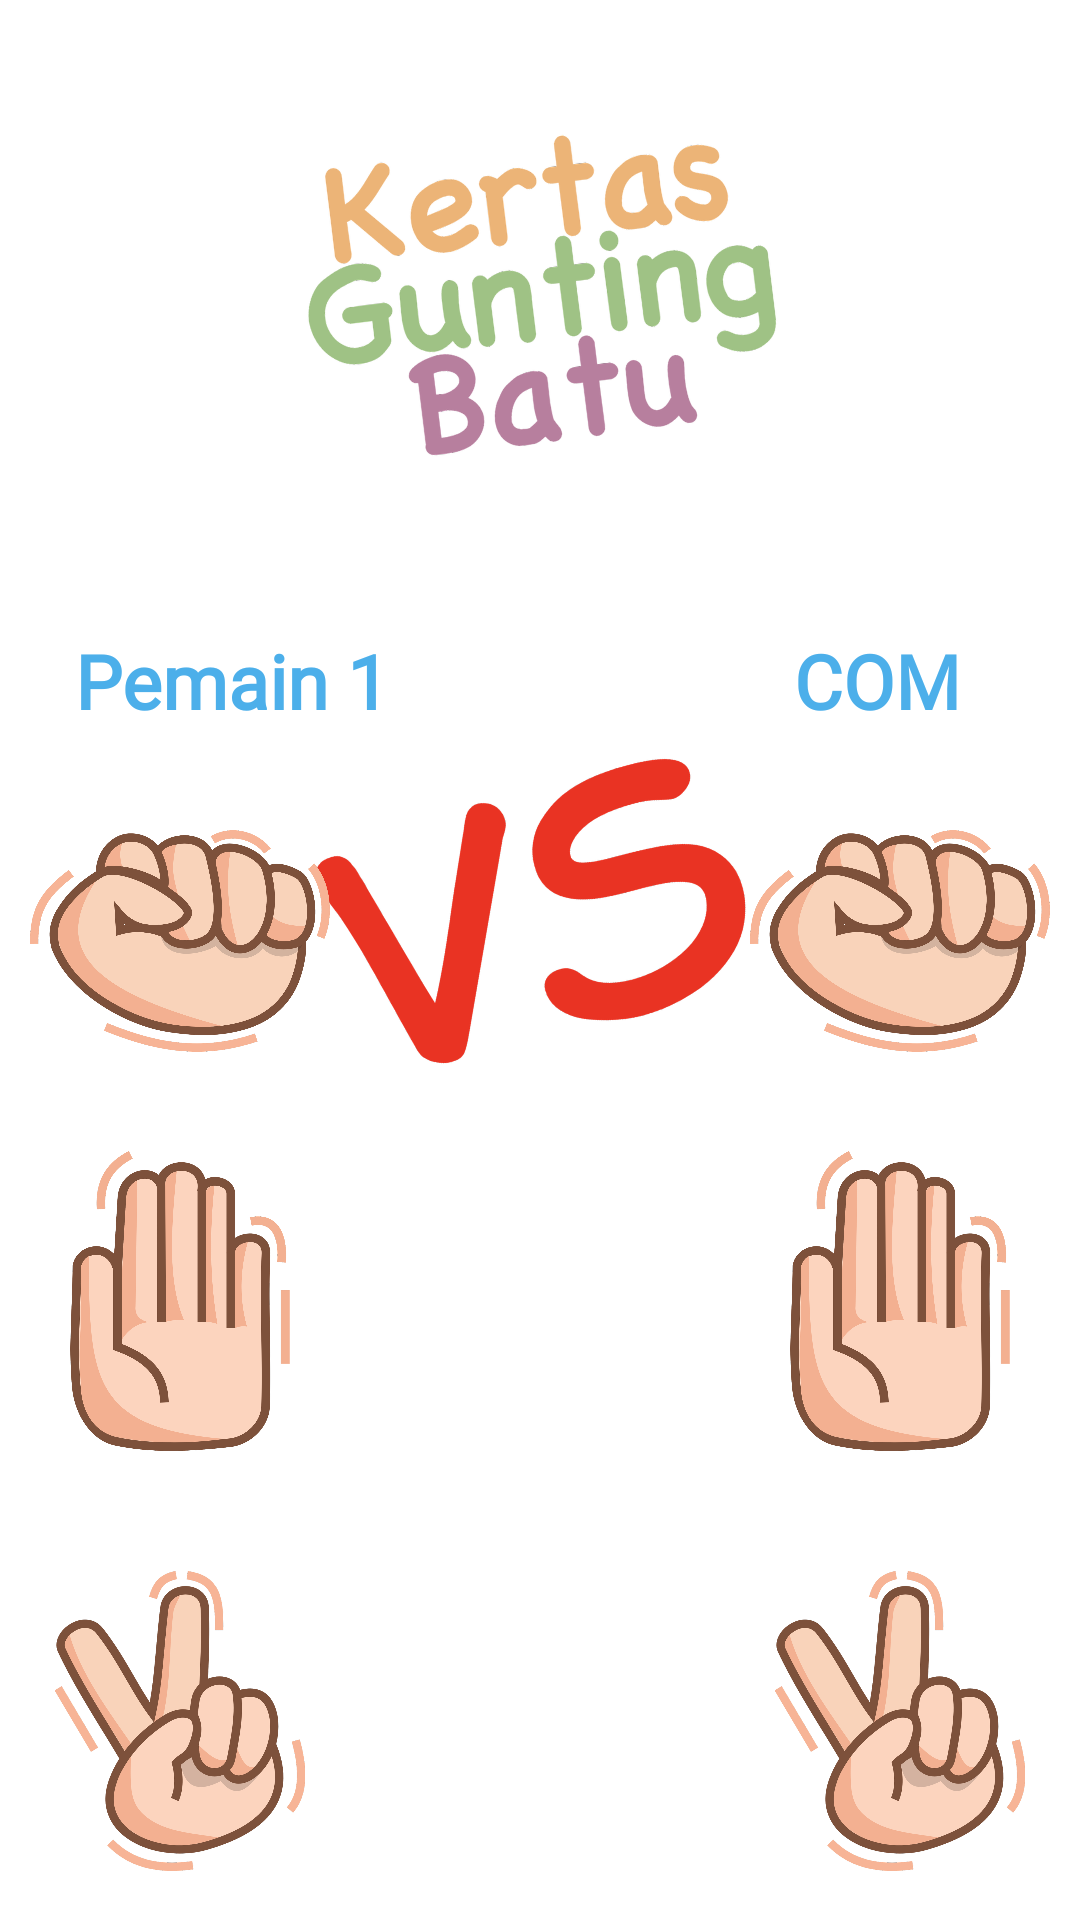

Icon bounding boxes for this 1080 x 1920 phone screenshot, format (x1, y1, x2, y2):
batu: (30, 830, 316, 1052), (750, 830, 1050, 1052)
gunting: (55, 1571, 305, 1871), (775, 1571, 1025, 1871)
kertas: (70, 1151, 290, 1451), (790, 1151, 1010, 1451)
